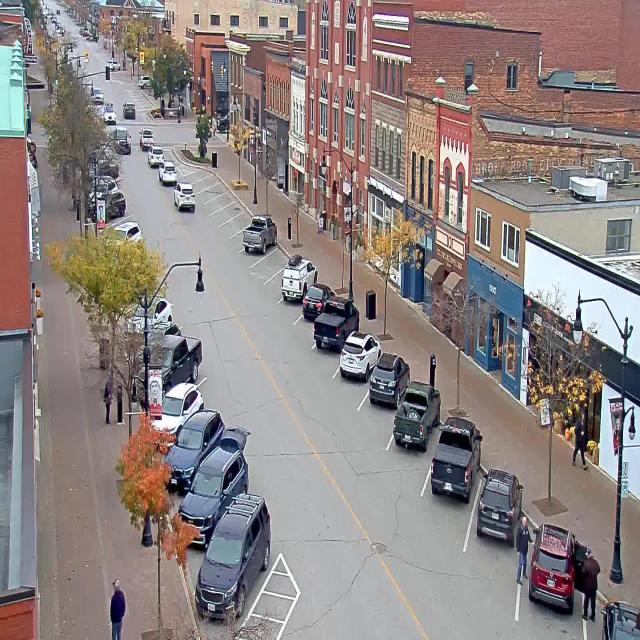available: (248, 240, 290, 283), (219, 212, 242, 238), (212, 206, 230, 226), (205, 195, 220, 216), (198, 186, 213, 206), (192, 178, 204, 195), (185, 171, 198, 186)
occupied: (194, 491, 271, 622), (177, 439, 249, 548), (528, 521, 592, 613), (162, 408, 224, 493), (132, 334, 202, 407), (430, 416, 482, 502), (149, 380, 204, 450), (476, 467, 523, 546), (392, 380, 441, 450), (312, 297, 360, 352), (368, 351, 410, 408), (339, 329, 381, 382), (600, 590, 640, 640), (280, 254, 318, 302), (129, 295, 173, 334), (242, 214, 277, 254), (302, 282, 335, 321)
